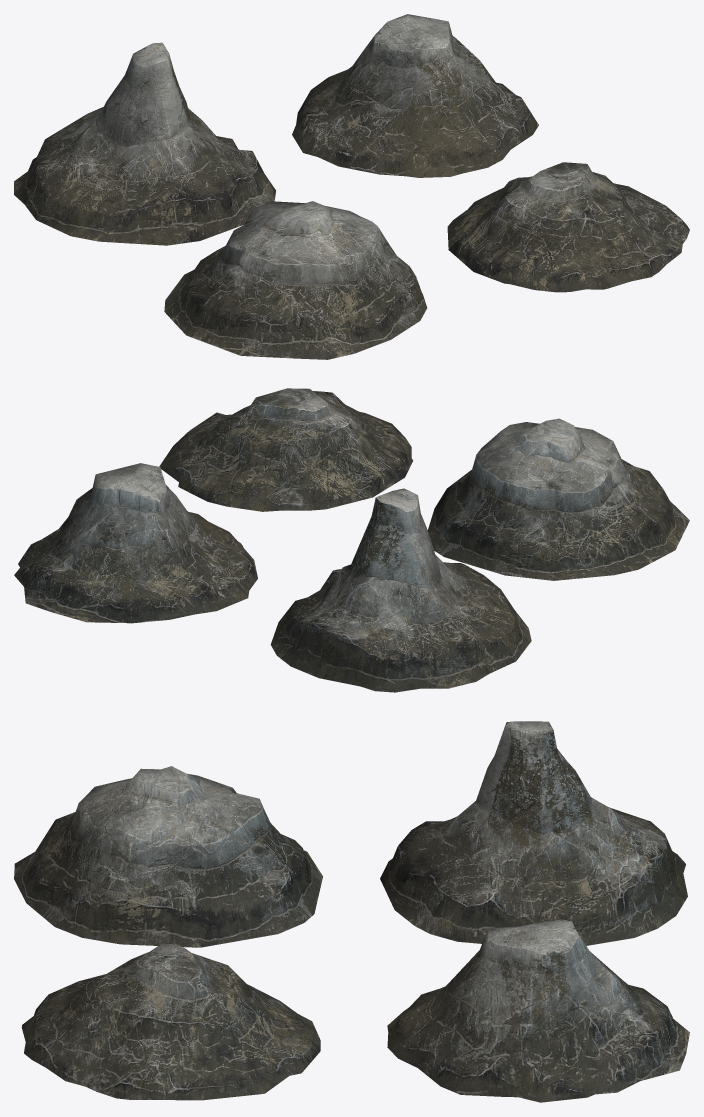
The model's file is mountains.glb.
The picture shows the model from 3 angles, top to bottom: view 1: azimuth 30°, elevation 25°; view 2: azimuth 150°, elevation 25°; view 3: azimuth 270°, elevation 25°; orthographic projection. The views are drawn at different scales.
Visible parts, largest first — view 1: mountain2, mountain1, mountain3, mountain4; view 2: mountain2, mountain1, mountain3, mountain4; view 3: mountain2, mountain1, mountain3, mountain4.
Part boxes in pixels (x1,y1,x2,y2): mountain2: [14, 42, 275, 245]; mountain1: [164, 201, 427, 359]; mountain3: [292, 14, 538, 177]; mountain4: [447, 162, 689, 292]; mountain2: [270, 488, 531, 692]; mountain1: [427, 418, 689, 580]; mountain3: [14, 463, 257, 623]; mountain4: [159, 388, 412, 511]; mountain2: [380, 721, 687, 945]; mountain1: [14, 766, 322, 947]; mountain3: [387, 919, 689, 1102]; mountain4: [21, 944, 320, 1100].
Bounding box in the file's own units: 18.95 × 5.1 × 18.93.
1 material, 1 textured.
